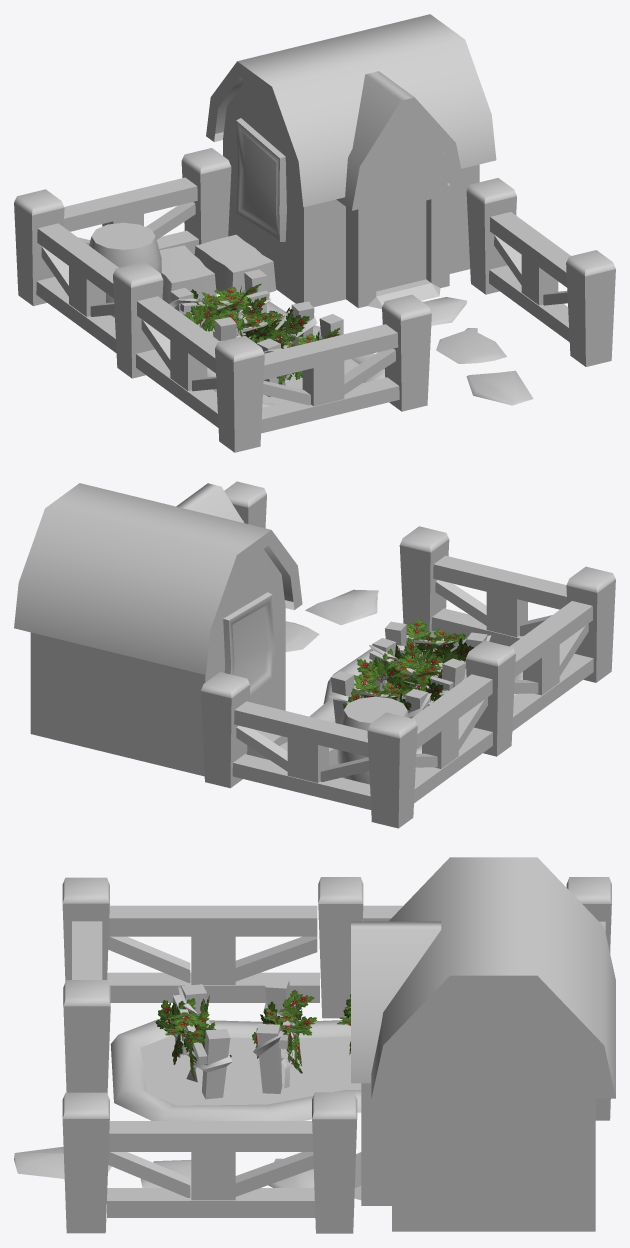
File: SM_Farm.fbx
The picture shows the model from 3 angles, top to bottom: view 1: azimuth 30°, elevation 25°; view 2: azimuth 150°, elevation 25°; view 3: azimuth 270°, elevation 25°; orthographic projection. The views are drawn at different scales.
Parts seen in each view (by area): view 1: B_Farm; view 2: B_Farm; view 3: B_Farm.
Part boxes in pixels (x1,y1,x2,y2): B_Farm: (14,14,615,452); B_Farm: (14,481,615,828); B_Farm: (14,857,615,1233).
Size of the model in its own units: 551 by 283 by 591.
